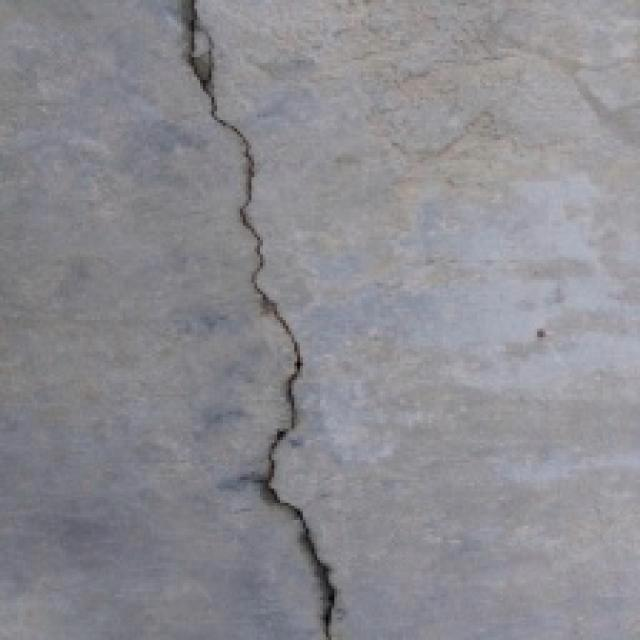SurfaceCrack: (148, 2, 428, 640)
